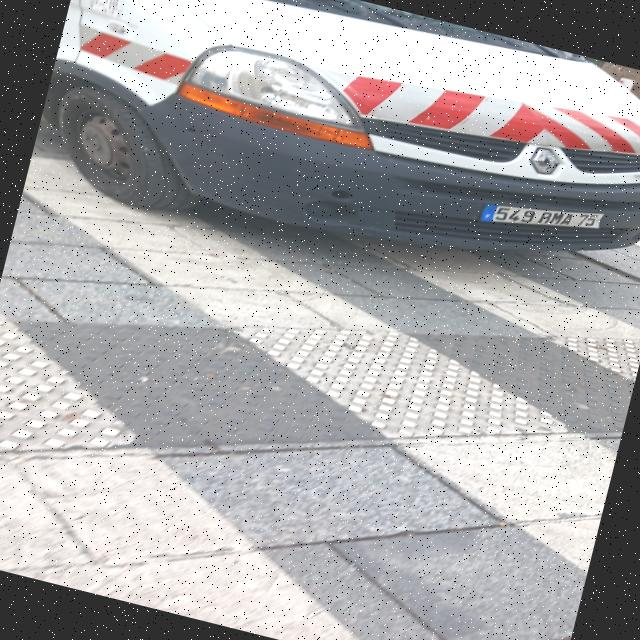EU: (478, 203, 604, 228)
France: (479, 204, 499, 221)
